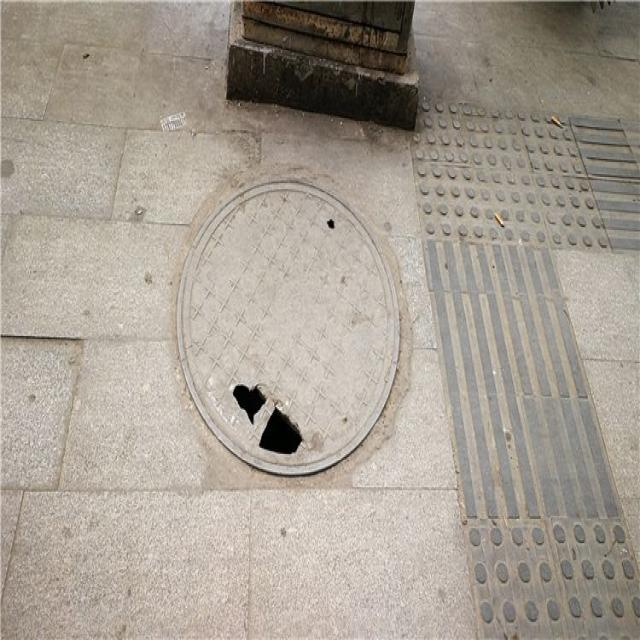Faulty: (174, 178, 398, 478)
